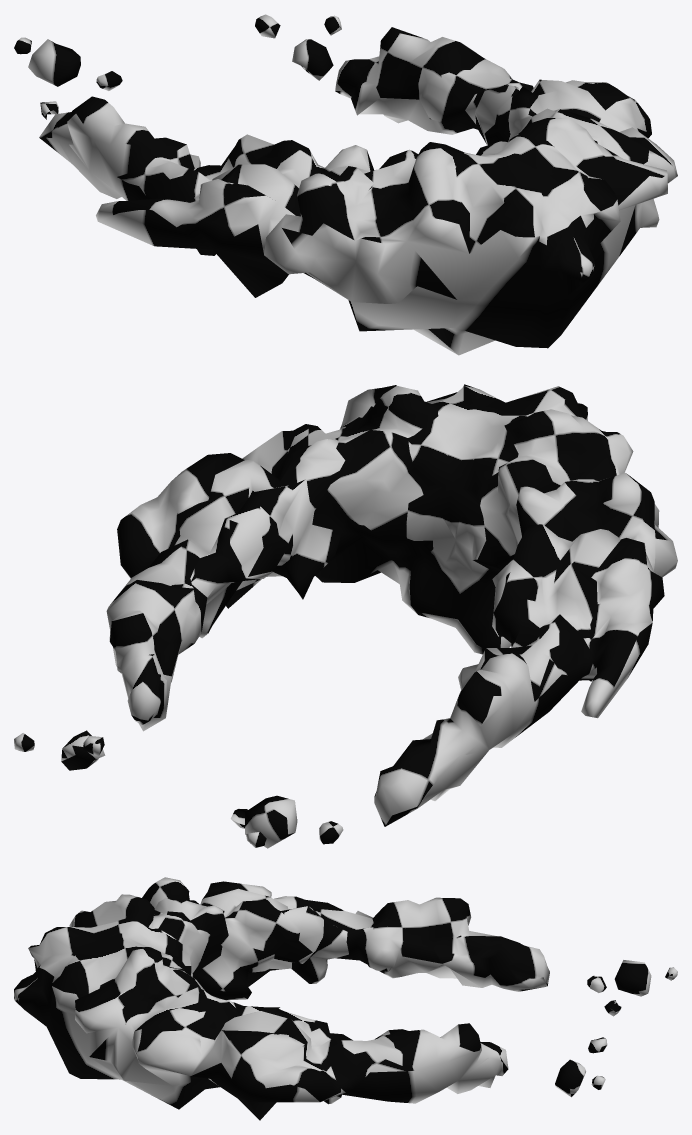
The model's file is pirate_base_main_asteroid.obj.
The picture shows the model from 3 angles, top to bottom: view 1: azimuth 30°, elevation 25°; view 2: azimuth 150°, elevation 25°; view 3: azimuth 270°, elevation 25°; orthographic projection. The views are drawn at different scales.
Parts seen in each view (by area): view 1: pirate_base_main_asteroid; view 2: pirate_base_main_asteroid; view 3: pirate_base_main_asteroid.
Part boxes in pixels (x1=…): pirate_base_main_asteroid: x1=14, y1=14, x2=677, y2=355; pirate_base_main_asteroid: x1=14, y1=384, x2=677, y2=848; pirate_base_main_asteroid: x1=14, y1=877, x2=677, y2=1120.
Size of the model in its own units: 2139 by 912 by 3205.
Materials: 1 (1 with a texture image).
